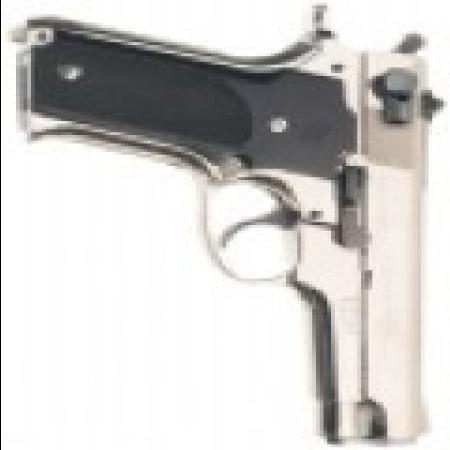Pistol: (19, 14, 442, 444)
